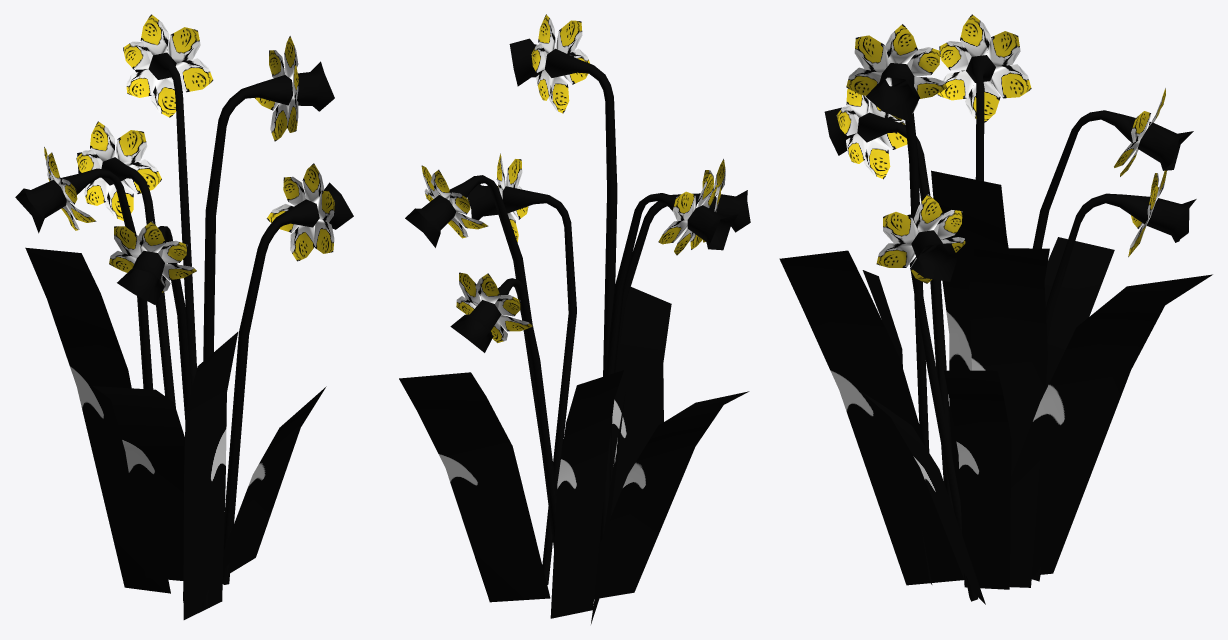
Rendered from Narcissus3Abloomer.fbx.
3 renders of one model, left to right at view 1: azimuth 30°, elevation 25°; view 2: azimuth 150°, elevation 25°; view 3: azimuth 270°, elevation 25°, orthographic. The views are drawn at different scales.
Visible parts, largest first — view 1: Narcissus3Abloomer; view 2: Narcissus3Abloomer; view 3: Narcissus3Abloomer.
Boxes of the visible parts, bbox=[...] form: Narcissus3Abloomer: bbox=[15, 14, 353, 619]; Narcissus3Abloomer: bbox=[399, 14, 750, 623]; Narcissus3Abloomer: bbox=[779, 14, 1212, 604].
Size of the model in its own units: 41.74 by 73.79 by 48.3.
